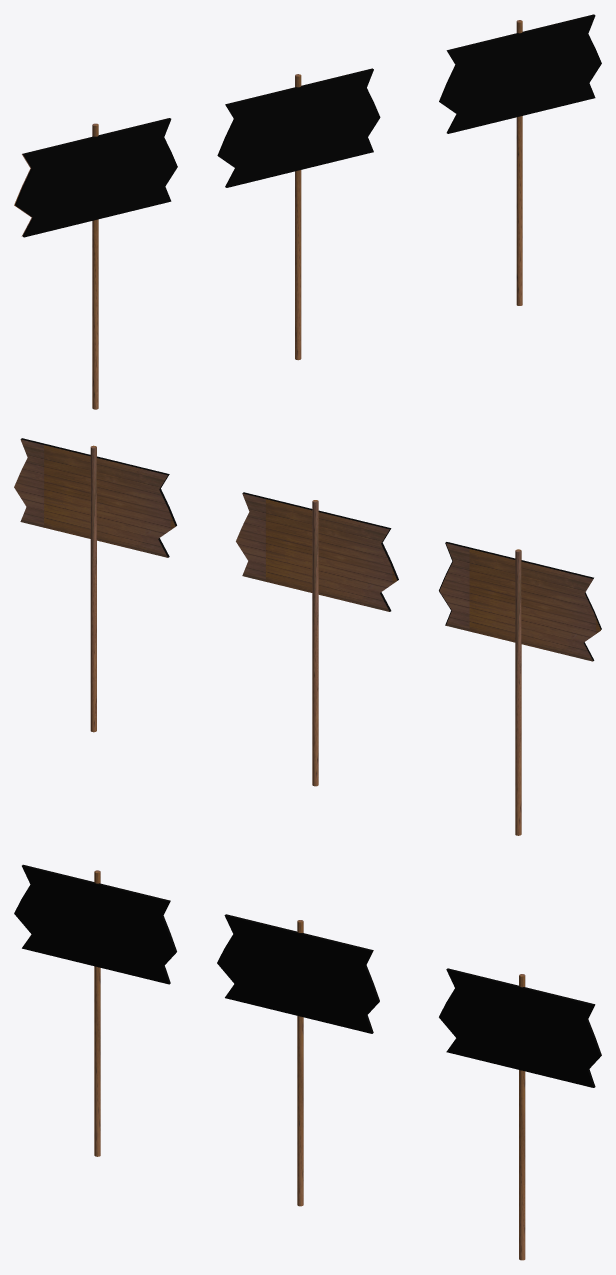
Rendered from InstructionSign.fbx.
3 views of the same model, one above another, from view 1: azimuth 30°, elevation 25°; view 2: azimuth 150°, elevation 25°; view 3: azimuth 330°, elevation 25° (orthographic).
Parts seen in each view (by area): view 1: sign_3, sign_2, sign, stick_3, stick_2, stick; view 2: signBack, signBack_1, signBack_2, stick_3, stick_2, stick, sign_3; view 3: sign_2, sign_3, sign, stick_3, stick, stick_2.
Part boxes in pixels (x1,y1,x2,y2): sign_3: [15, 118, 177, 237]; sign_2: [217, 68, 380, 187]; sign: [439, 14, 601, 133]; stick_3: [92, 123, 98, 409]; stick_2: [295, 74, 301, 360]; stick: [516, 20, 522, 305]; signBack: [14, 439, 175, 557]; signBack_1: [439, 543, 600, 661]; signBack_2: [236, 493, 397, 611]; stick_3: [515, 549, 521, 835]; stick_2: [312, 500, 318, 786]; stick: [90, 445, 96, 732]; sign_3: [439, 542, 601, 660]; sign_2: [217, 914, 379, 1033]; sign_3: [14, 864, 176, 984]; sign: [439, 968, 601, 1087]; stick_3: [94, 870, 100, 1156]; stick: [519, 974, 525, 1260]; stick_2: [297, 920, 303, 1206].
Bounding box in the file's own units: 433 × 200 × 4.72.
Materials: 7 (7 with a texture image).
